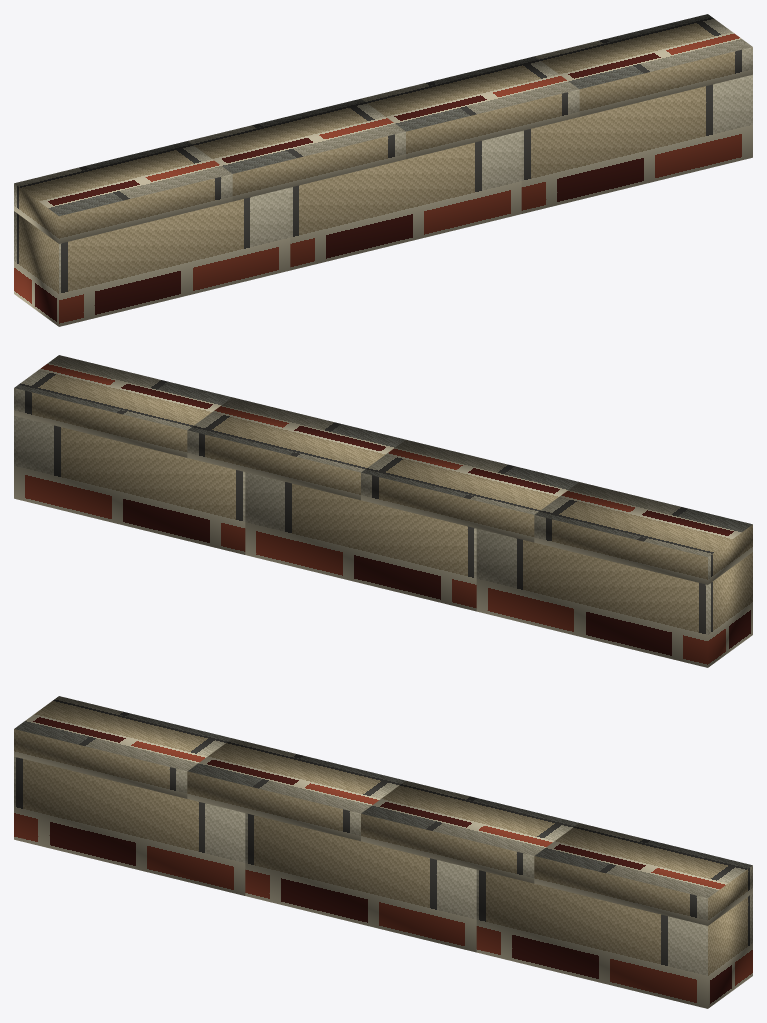
File: byzantine stone slabs.glb
The picture shows the model from 3 angles, top to bottom: view 1: azimuth 30°, elevation 25°; view 2: azimuth 150°, elevation 25°; view 3: azimuth 330°, elevation 25°; orthographic projection.
Parts seen in each view (by area): view 1: Byzantine Stone Slabs; view 2: Byzantine Stone Slabs; view 3: Byzantine Stone Slabs.
Boxes of the visible parts, x1,y1,x2,y2 form: Byzantine Stone Slabs: (14,14,752,326); Byzantine Stone Slabs: (14,355,752,667); Byzantine Stone Slabs: (14,696,752,1008).
Size of the model in its own units: 2 by 0.3048 by 0.225.
Materials: 1 (1 with a texture image).
